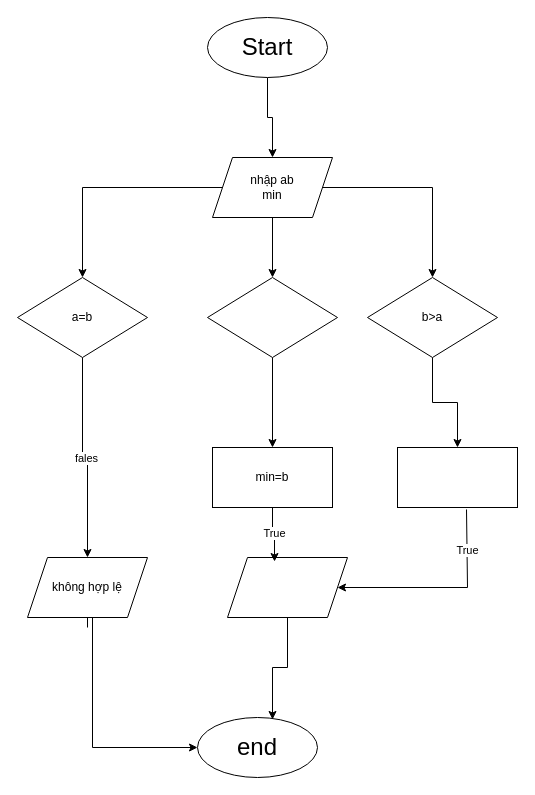
Image size: 535x795. Some labels were removed from this diagram. Each missing label, with the centre of its shape:
"a>b" goes at (x=272, y=317).
"hợp lệ" goes at (x=287, y=587).
"min=a" goes at (x=457, y=477).
